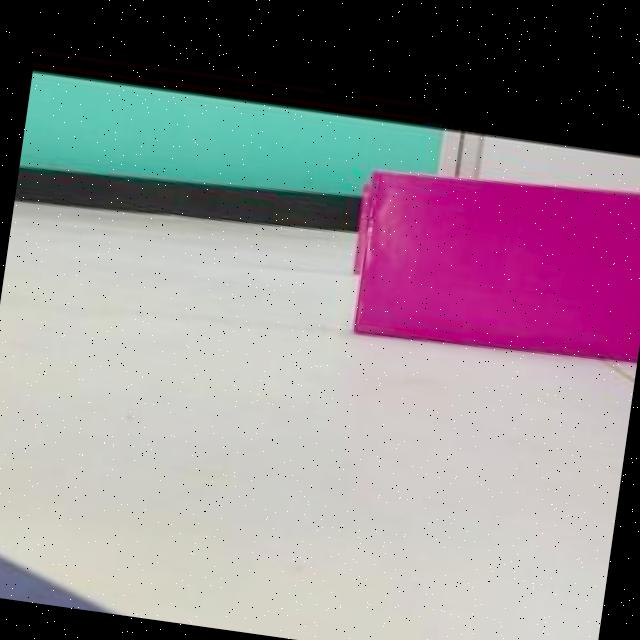xparking: (353, 159, 640, 371)
